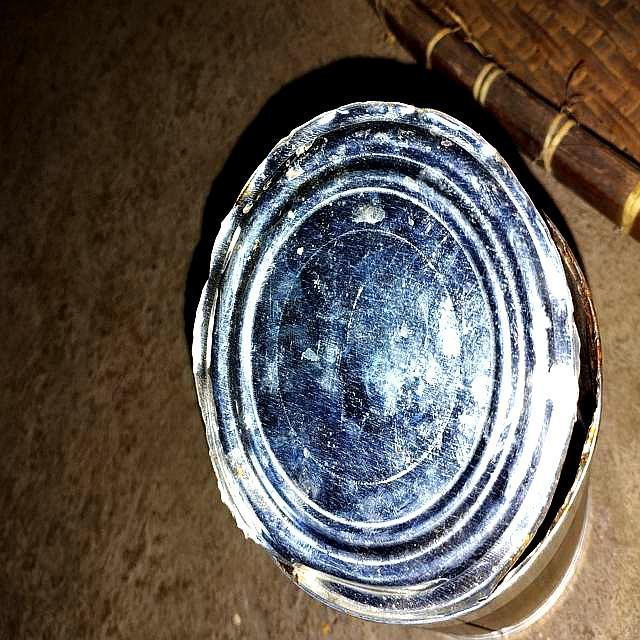Non-biodegradable: (190, 99, 603, 631)
